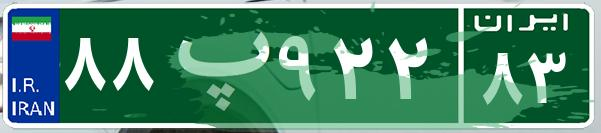2: (385, 28, 445, 110), (330, 28, 385, 110)
3: (525, 38, 570, 115)
8: (57, 26, 110, 107), (475, 38, 525, 113), (110, 28, 158, 105)
9: (273, 28, 330, 110)
پ: (158, 15, 273, 115)
